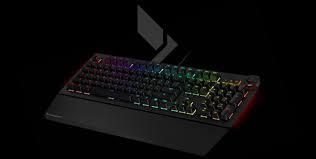keyboard: (58, 51, 260, 129)
